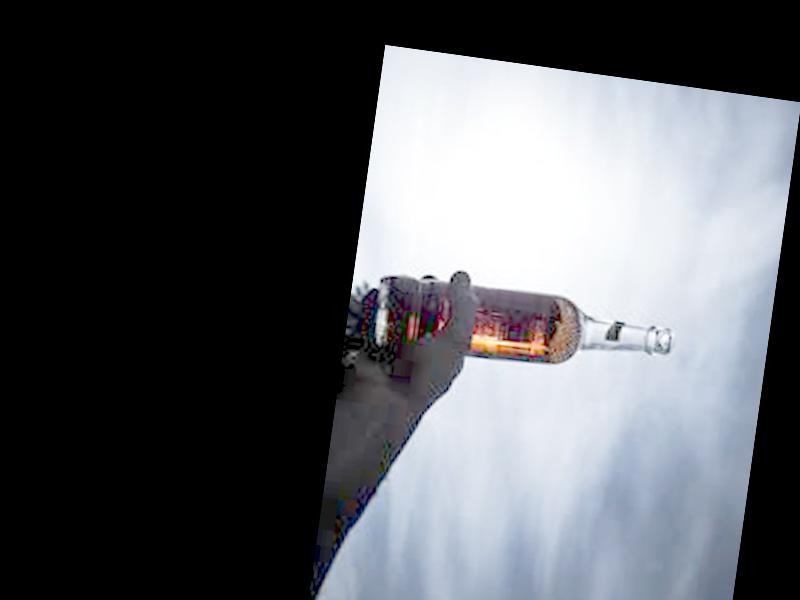Beer: (376, 275, 676, 384)
